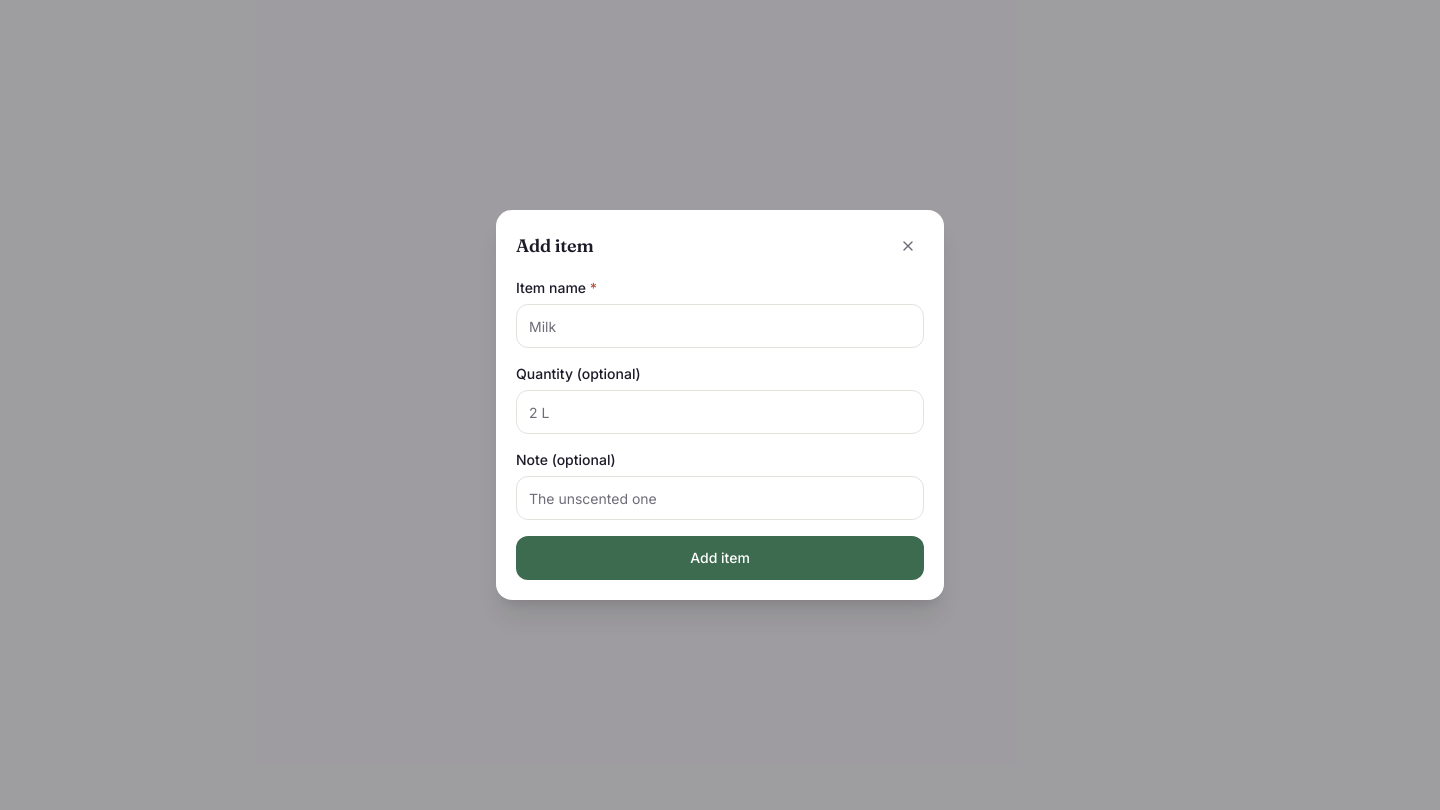
Scenario: GroceryItemModal › validates empty item name
This screenshot has width=1440, height=810.
What coordinates should you click on to do the following:
click the button "Add item"
I would click on:
 (720, 558)
Its box is x1=516 y1=536 x2=924 y2=580.
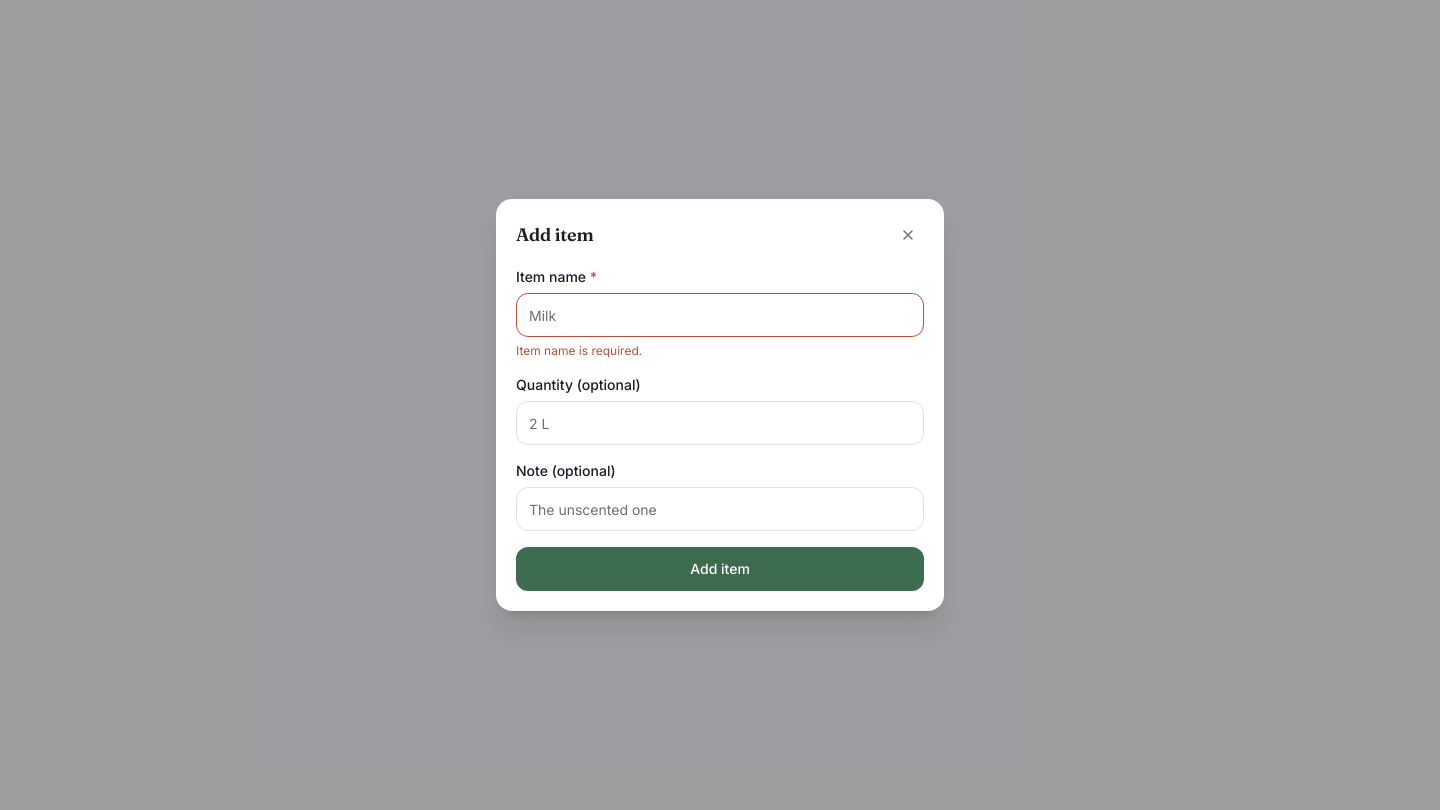
Now the text "Item name is required." is shown, box x1=516 y1=343 x2=642 y2=358
